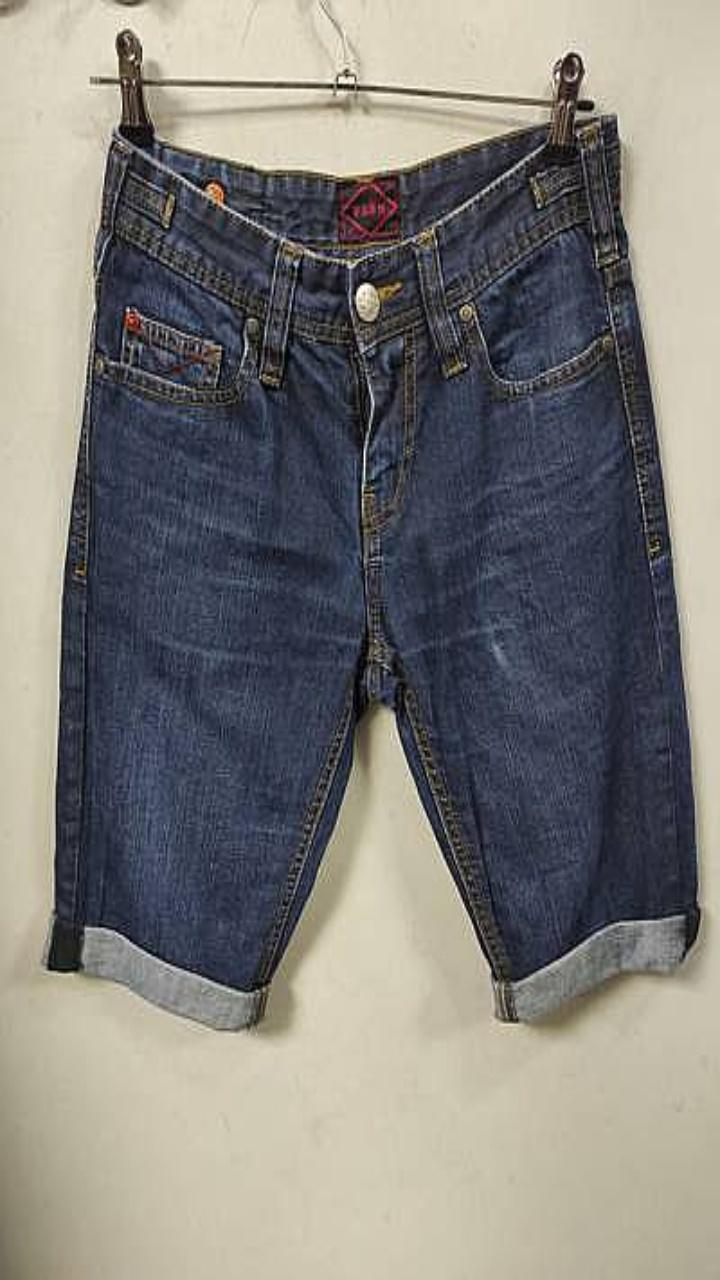Shorts: (43, 113, 699, 1028)
